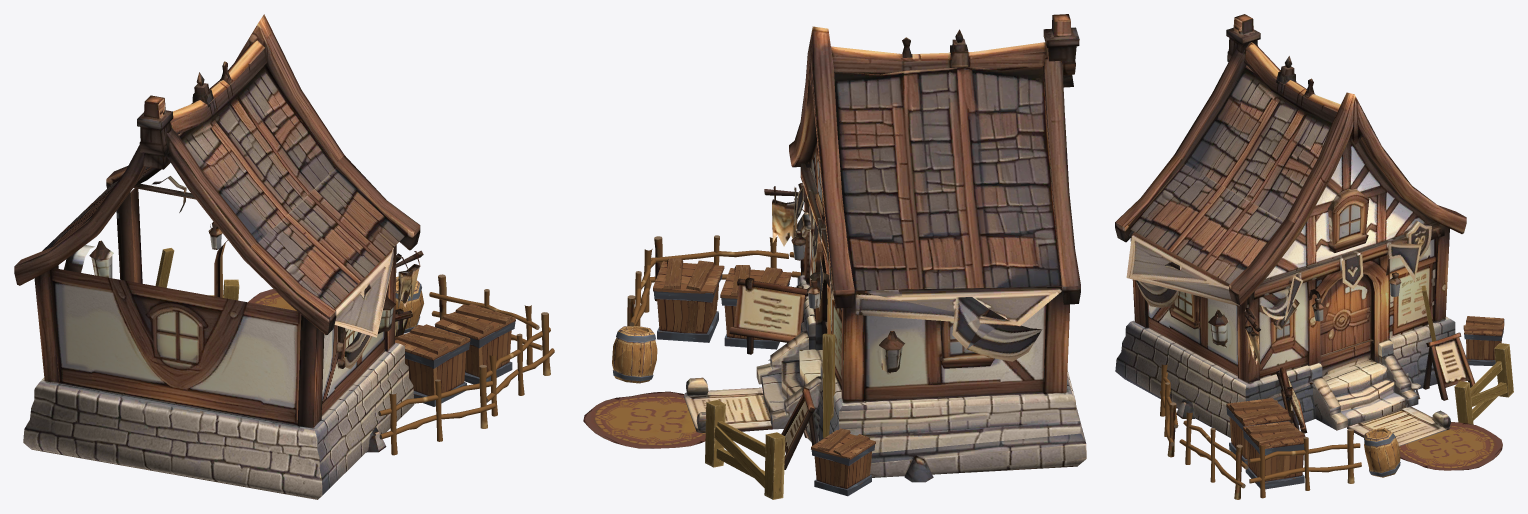
The model's file is MainCityDecor_Home_Town.glb.
The picture shows the model from 3 angles, left to right: view 1: azimuth 30°, elevation 25°; view 2: azimuth 150°, elevation 25°; view 3: azimuth 270°, elevation 25°; orthographic projection. The views are drawn at different scales.
Visible parts, largest first — view 1: EnvMaincity_Detail__Mission_Spot__un6131628407873814918, EnvCampsite_Detail__Box__2_14__un1158154771676742022, EnvCampsite_Detail__Box__2_13__u214773062108429946, EnvCampsite_Detail__Fence__3_1__u8347006782073192058, EnvCampsite_Detail__Fence__3__u919989240505286266, EnvCampsite_Detail__Fence__3_2__u2899563958639443578, EnvCampsite_Detail__Cask__2_15__u2706851437514505850; view 2: EnvMaincity_Detail__Mission_Spot__un6131628407873814918, EnvCampsite_Detail__Rug__3_2__un2501871358185456006, EnvCampsite_Detail__Box__2_13__u214773062108429946, EnvCampsite_Detail__Box__2_16__u1417968134150995578, EnvCampsite_Detail__Cask__2_15__u2706851437514505850, EnvCampsite_Detail__Box__2_14__un1158154771676742022, EnvCampsite_Detail__Fence__3__u919989240505286266, EnvCampsite_Detail__Batten_1__u4712419512073043578, EnvCampsite_Detail__Batten__u5018116273392762490, EnvCampsite_Detail__Fence__3_2__u2899563958639443578, EnvCampsite_Detail__Batten_3__un2525597302428746118, EnvCampsite_Detail__Batten_4__un6074183070715953542 (+1 smaller); view 3: EnvMaincity_Detail__Mission_Spot__un6131628407873814918, EnvCampsite_Detail__Rug__3_2__un2501871358185456006, EnvCampsite_Detail__Box__2_13__u214773062108429946, EnvCampsite_Detail__Fence__3_2__u2899563958639443578, EnvCampsite_Detail__Box__2_14__un1158154771676742022, EnvCampsite_Detail__Box__2_16__u1417968134150995578, EnvCampsite_Detail__Fence__3__u919989240505286266, EnvCampsite_Detail__Cask__2_15__u2706851437514505850, EnvCampsite_Detail__Fence__3_1__u8347006782073192058, EnvCampsite_Detail__Batten_1__u4712419512073043578, EnvCampsite_Detail__Batten_3__un2525597302428746118.
Part boxes in pixels (x1=…): EnvMaincity_Detail__Mission_Spot__un6131628407873814918: x1=14, y1=14, x2=423, y2=499; EnvCampsite_Detail__Box__2_14__un1158154771676742022: x1=395, y1=324, x2=470, y2=406; EnvCampsite_Detail__Box__2_13__u214773062108429946: x1=434, y1=304, x2=515, y2=384; EnvCampsite_Detail__Fence__3_1__u8347006782073192058: x1=378, y1=365, x2=495, y2=455; EnvCampsite_Detail__Fence__3__u919989240505286266: x1=486, y1=312, x2=554, y2=416; EnvCampsite_Detail__Fence__3_2__u2899563958639443578: x1=429, y1=274, x2=542, y2=364; EnvCampsite_Detail__Cask__2_15__u2706851437514505850: x1=395, y1=276, x2=423, y2=333; EnvMaincity_Detail__Mission_Spot__un6131628407873814918: x1=683, y1=14, x2=1086, y2=482; EnvCampsite_Detail__Rug__3_2__un2501871358185456006: x1=583, y1=391, x2=705, y2=448; EnvCampsite_Detail__Box__2_13__u214773062108429946: x1=653, y1=258, x2=724, y2=342; EnvCampsite_Detail__Box__2_16__u1417968134150995578: x1=811, y1=428, x2=875, y2=496; EnvCampsite_Detail__Cask__2_15__u2706851437514505850: x1=612, y1=326, x2=657, y2=383; EnvCampsite_Detail__Box__2_14__un1158154771676742022: x1=720, y1=265, x2=791, y2=349; EnvCampsite_Detail__Fence__3__u919989240505286266: x1=650, y1=235, x2=790, y2=301; EnvCampsite_Detail__Batten_1__u4712419512073043578: x1=764, y1=432, x2=785, y2=499; EnvCampsite_Detail__Batten__u5018116273392762490: x1=822, y1=333, x2=835, y2=438; EnvCampsite_Detail__Fence__3_2__u2899563958639443578: x1=627, y1=249, x2=655, y2=326; EnvCampsite_Detail__Batten_3__un2525597302428746118: x1=705, y1=400, x2=725, y2=467; EnvCampsite_Detail__Batten_4__un6074183070715953542: x1=714, y1=425, x2=764, y2=487; EnvMaincity_Detail__Mission_Spot__un6131628407873814918: x1=1115, y1=14, x2=1475, y2=446; EnvCampsite_Detail__Rug__3_2__un2501871358185456006: x1=1399, y1=422, x2=1502, y2=470; EnvCampsite_Detail__Box__2_13__u214773062108429946: x1=1243, y1=421, x2=1305, y2=489; EnvCampsite_Detail__Fence__3_2__u2899563958639443578: x1=1249, y1=428, x2=1361, y2=498; EnvCampsite_Detail__Box__2_14__un1158154771676742022: x1=1226, y1=398, x2=1290, y2=464; EnvCampsite_Detail__Box__2_16__u1417968134150995578: x1=1463, y1=316, x2=1504, y2=365; EnvCampsite_Detail__Fence__3__u919989240505286266: x1=1179, y1=412, x2=1248, y2=499; EnvCampsite_Detail__Cask__2_15__u2706851437514505850: x1=1364, y1=428, x2=1400, y2=477; EnvCampsite_Detail__Fence__3_1__u8347006782073192058: x1=1160, y1=364, x2=1178, y2=457; EnvCampsite_Detail__Batten_1__u4712419512073043578: x1=1494, y1=343, x2=1513, y2=397; EnvCampsite_Detail__Batten_3__un2525597302428746118: x1=1454, y1=381, x2=1473, y2=424.
Size of the model in its own units: 9.59 by 7.32 by 8.02.
7 materials, 7 textured.
